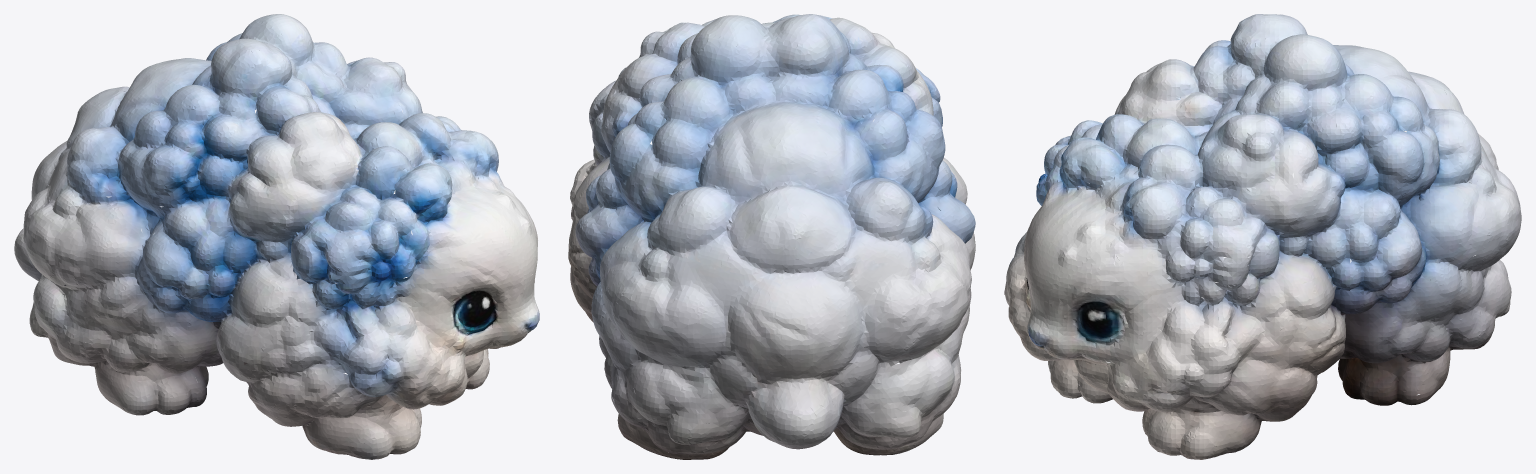
File: nimbri.glb
The picture shows the model from 3 angles, left to right: view 1: azimuth 30°, elevation 25°; view 2: azimuth 150°, elevation 25°; view 3: azimuth 270°, elevation 25°; orthographic projection. The views are drawn at different scales.
Parts seen in each view (by area): view 1: plush; view 2: plush; view 3: plush.
Part boxes in pixels (<box>): plush: <box>14,14,539,459</box>; plush: <box>568,14,975,459</box>; plush: <box>1004,14,1521,459</box>.
Bounding box in the file's own units: 0.9141 × 0.7376 × 0.9798.
1 material, 1 textured.
